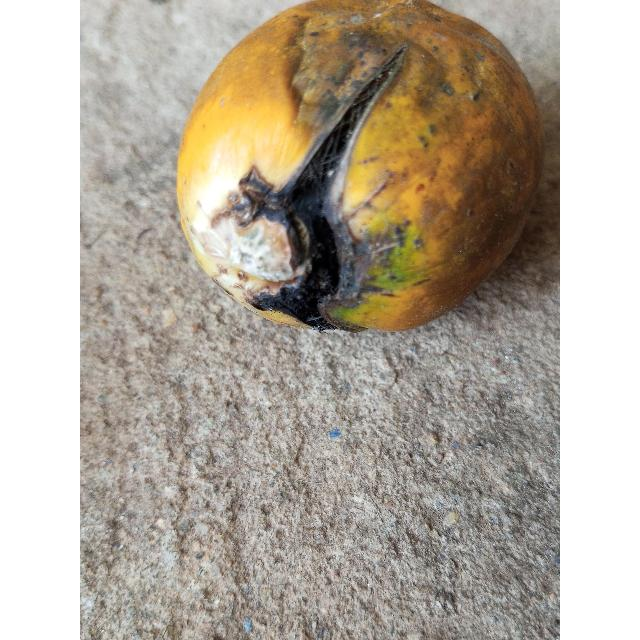damaged: (175, 0, 544, 335)
